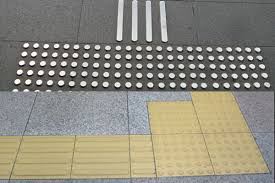guide_blocks: (13, 42, 270, 89), (1, 133, 271, 174), (149, 100, 251, 133)
